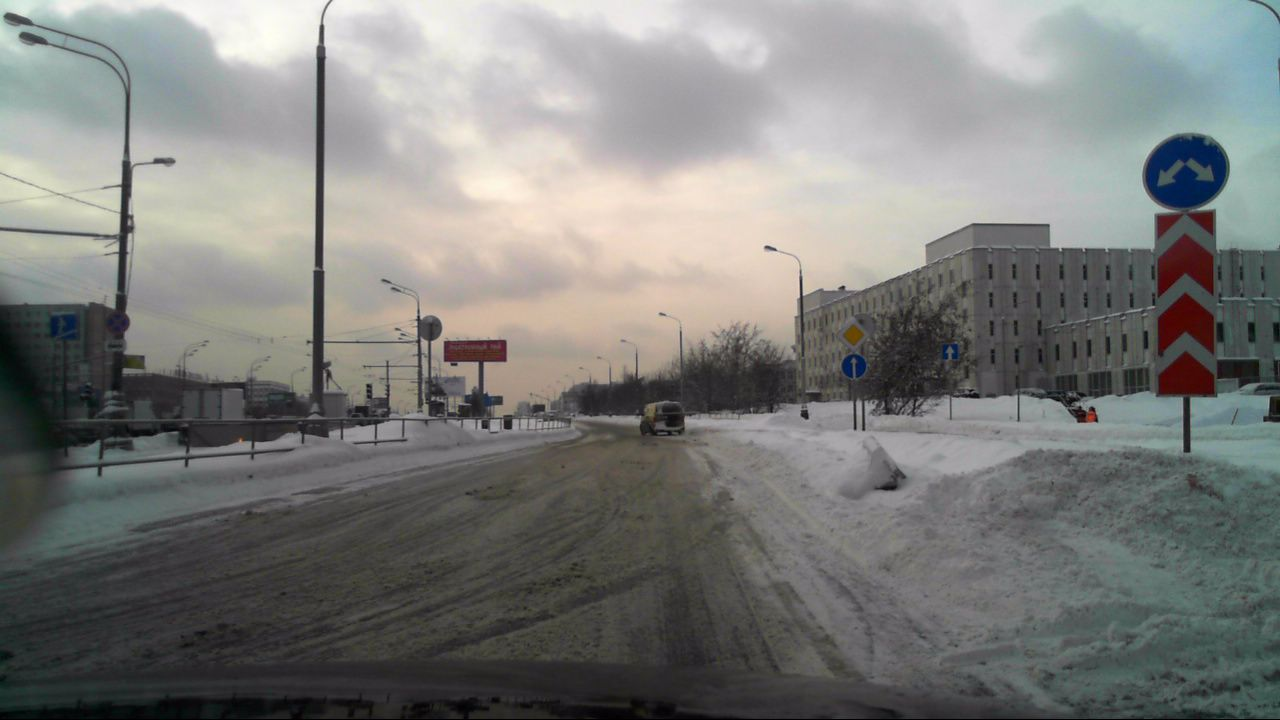No Parking: (101, 311, 128, 338)
